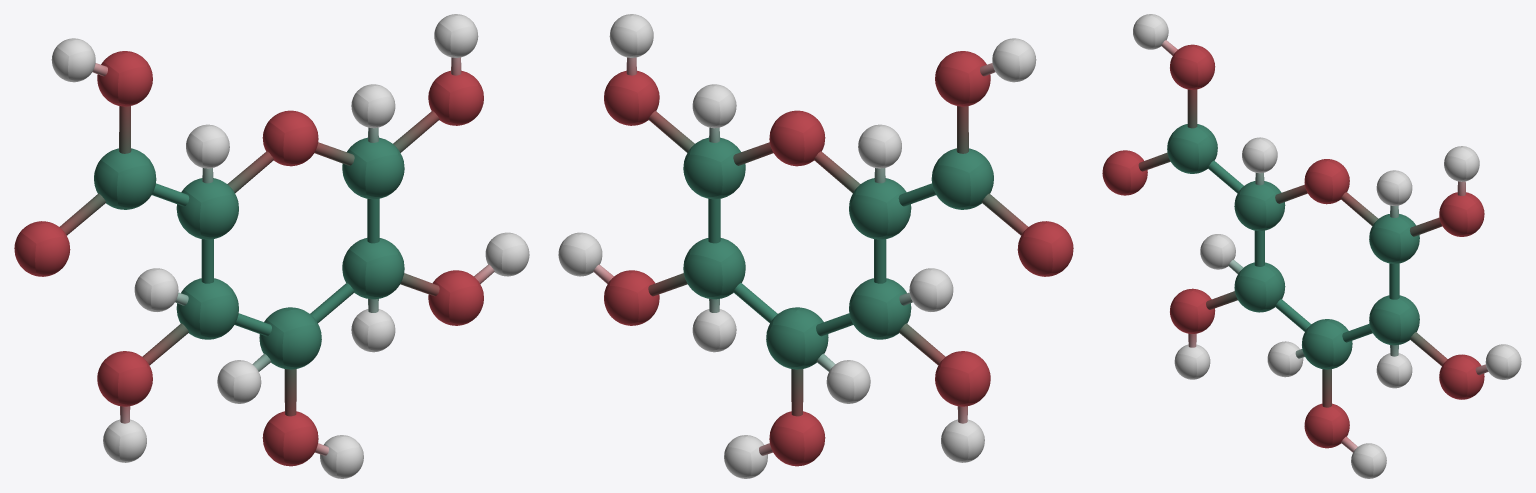
File: Pectin.fbx
3 views of the same model, side by side, from view 1: azimuth 30°, elevation 25°; view 2: azimuth 150°, elevation 25°; view 3: azimuth 330°, elevation 25° (orthographic). The views are drawn at different scales.
Visible parts, largest first — view 1: curMeshHyperballExportedMesh; view 2: curMeshHyperballExportedMesh; view 3: curMeshHyperballExportedMesh.
Part boxes in pixels (x1,y1,x2,y2): curMeshHyperballExportedMesh: [14, 14, 529, 478]; curMeshHyperballExportedMesh: [558, 14, 1073, 478]; curMeshHyperballExportedMesh: [1102, 14, 1521, 478].
Bounding box in the file's own units: 5.32 × 5.02 × 0.5667.
